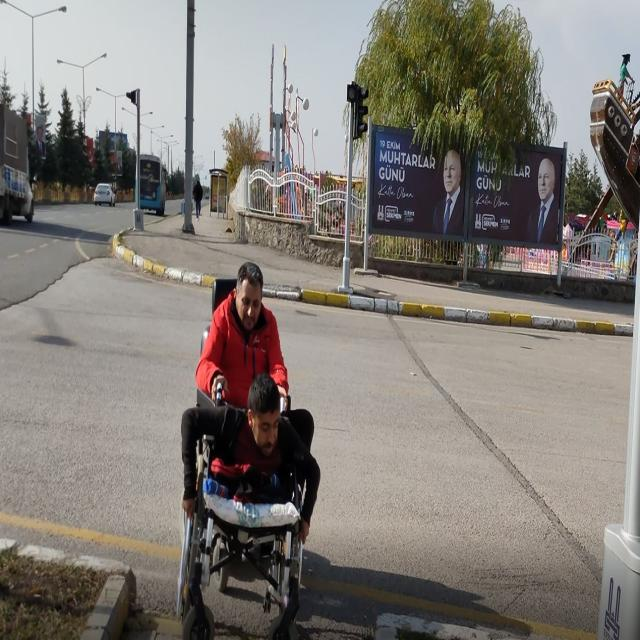wheelchairs: (190, 392, 314, 624)
